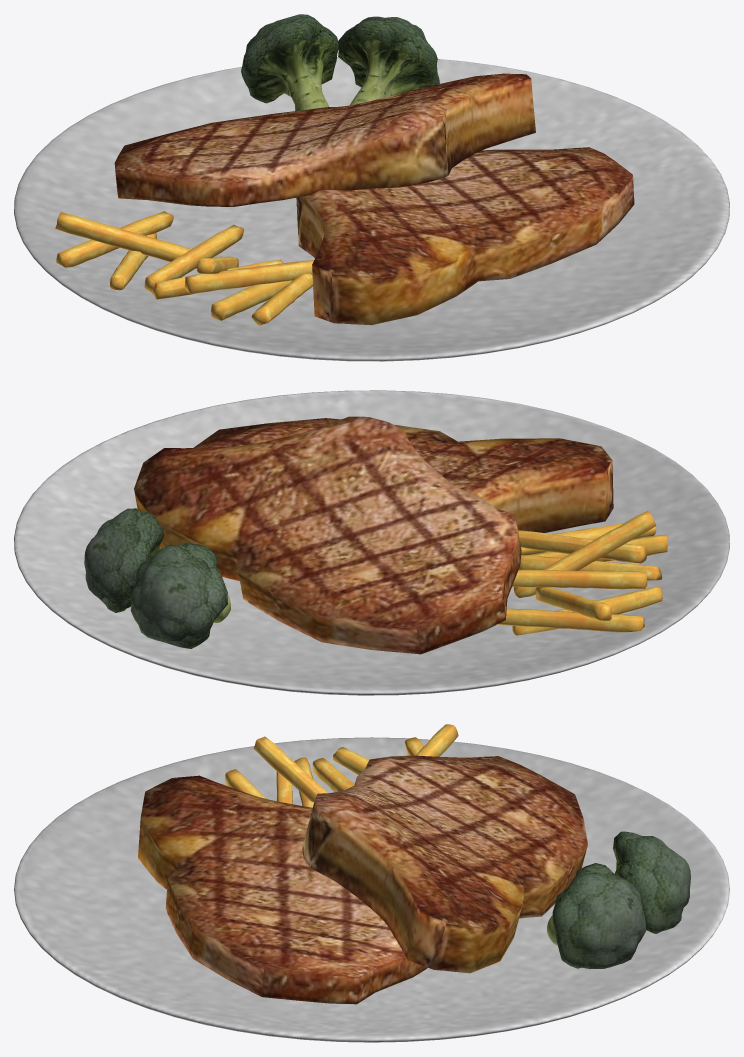
File: steak.glb
3 views of the same model, one above another, from view 1: azimuth 30°, elevation 25°; view 2: azimuth 150°, elevation 25°; view 3: azimuth 270°, elevation 25° (orthographic).
Visible parts, largest first — view 1: Steak_0; view 2: Steak_0; view 3: Steak_0.
Part boxes in pixels (x1,y1,x2,y2): Steak_0: (14,14,729,361); Steak_0: (14,390,729,695); Steak_0: (14,724,729,1042).
Bounding box in the file's own units: 0.2091 × 0.0418 × 0.2091.
4 materials, 4 textured.
